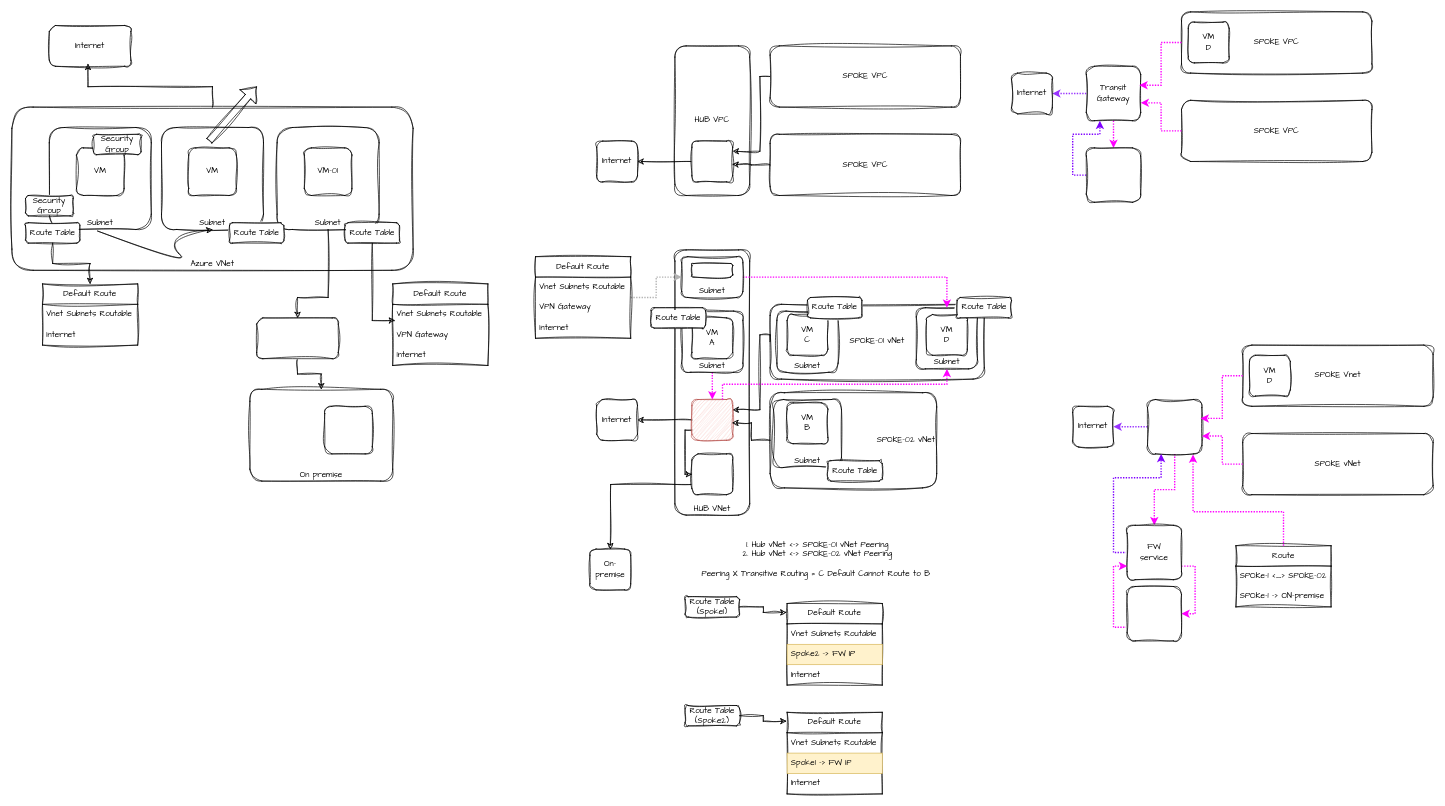
The diagram is 1445 pixels wide and 806 high, and some of its shapes have lost their labels. Each missing label, with the centre of its shape:
Azure FW: point (712, 419)
Express Route VPN SDWAN: point (1154, 613)
FW: point (712, 161)
PA NGFW Service: point (1113, 174)
Virtual WAN: point (1174, 426)
VM E: point (712, 270)
VM On premise: point (348, 430)
VNG: point (712, 474)
VPN Gateway (VNG): point (297, 338)
